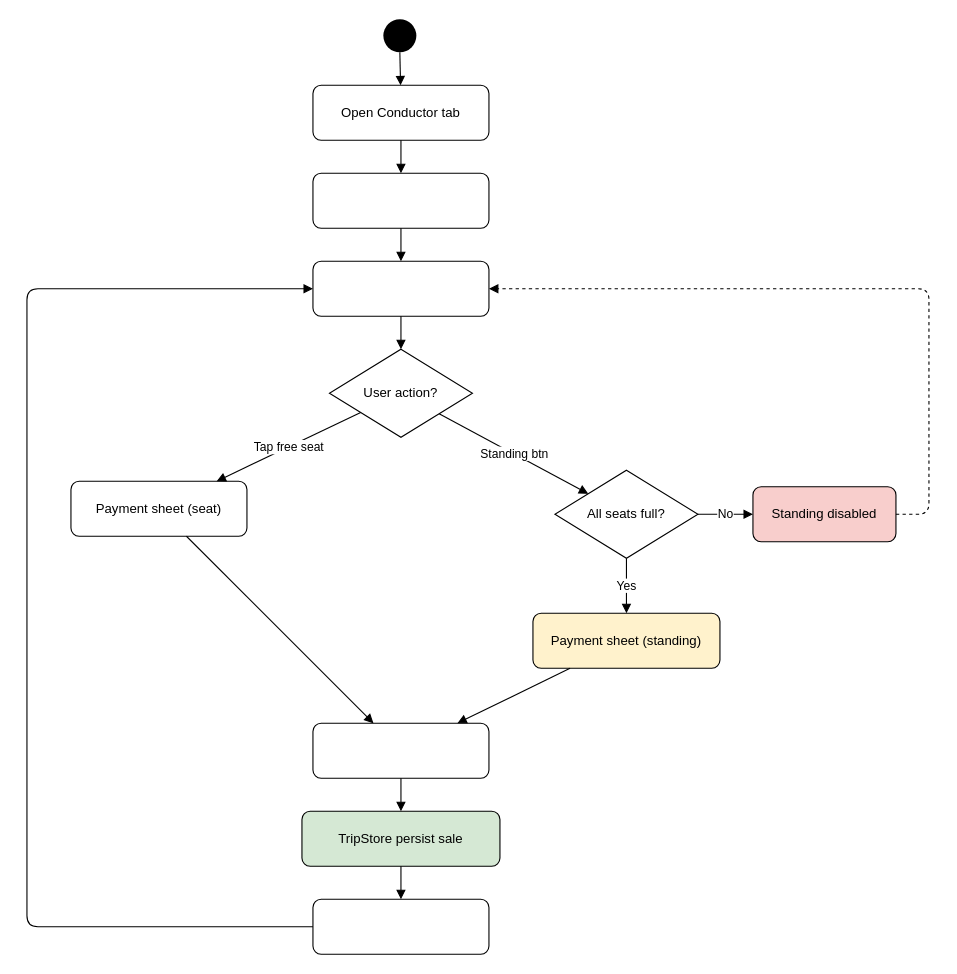
Image size: 957x974. Some labels were removed from this diagram. Each missing label, with the centre of its shape:
Cash or UPI confirm: pixel 400 750
Refresh occupancy: pixel 400 926
Select trip: pixel 400 200
Show seat grid: pixel 400 288
